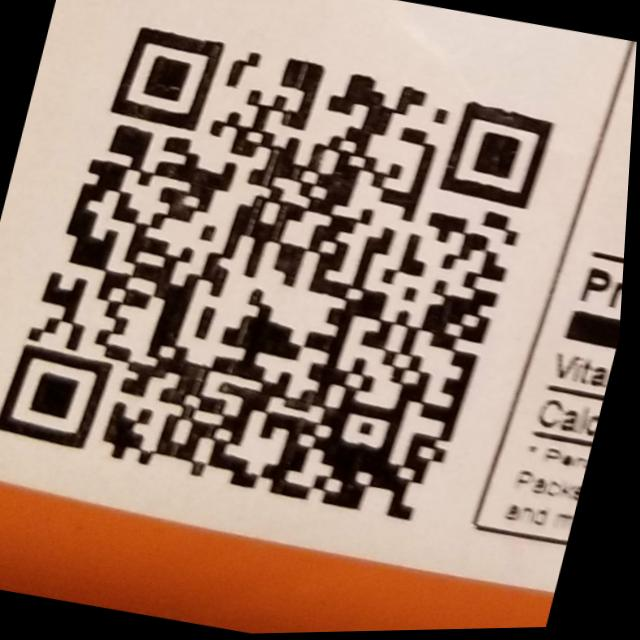QR_CODE: (0, 0, 590, 559)
